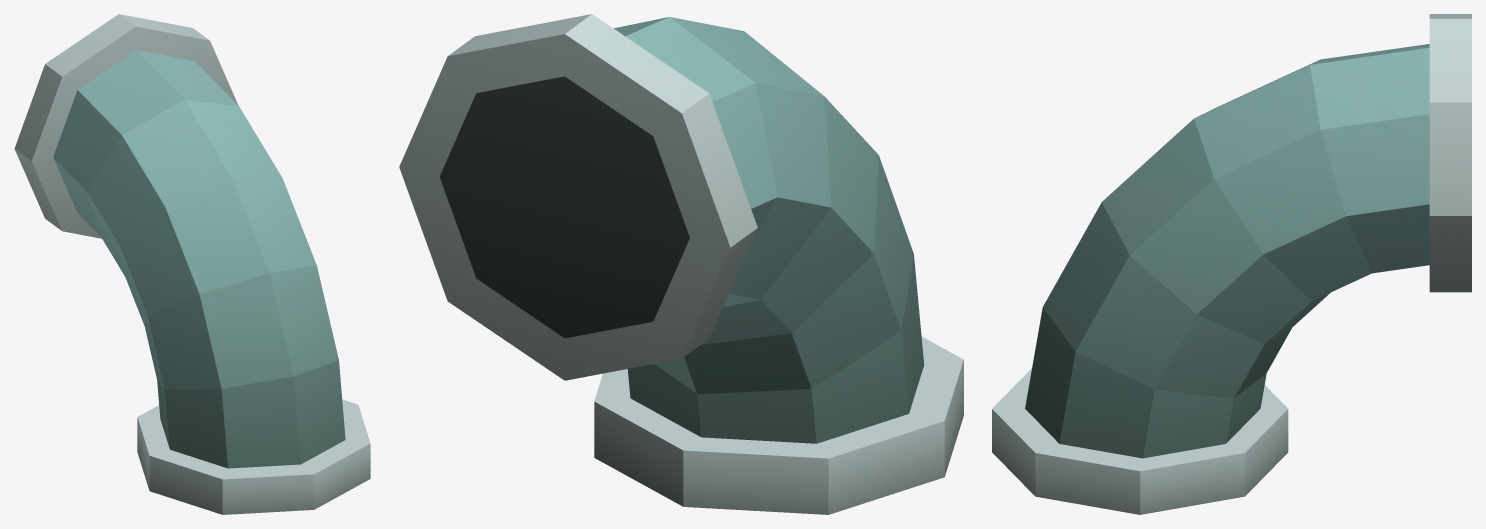
File: pipe_001.fbx
The picture shows the model from 3 angles, left to right: view 1: azimuth 30°, elevation 25°; view 2: azimuth 150°, elevation 25°; view 3: azimuth 270°, elevation 25°; orthographic projection. The views are drawn at different scales.
Parts seen in each view (by area): view 1: pipe.001; view 2: pipe.001; view 3: pipe.001.
Boxes of the visible parts, x1,y1,x2,y2 form: pipe.001: (14,14,370,514); pipe.001: (399,14,963,514); pipe.001: (992,14,1471,514).
Size of the model in its own units: 101 by 163 by 164.
